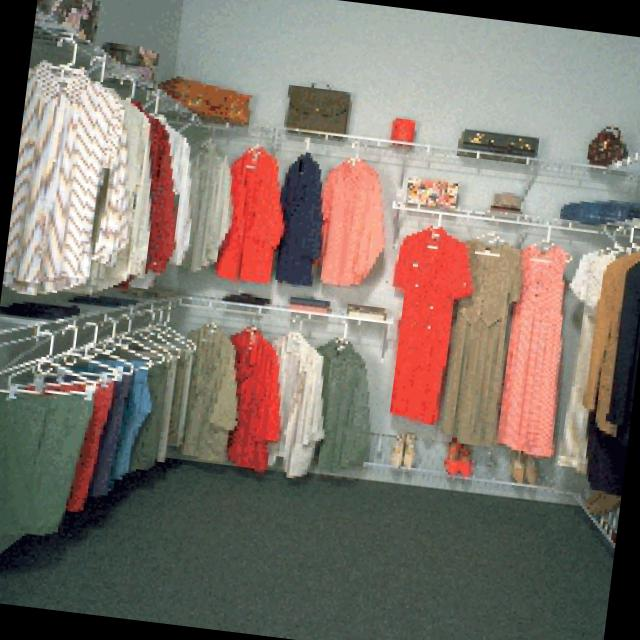basket food: (0, 536, 182, 620)
boxs: (10, 217, 197, 312), (88, 96, 175, 168), (172, 109, 252, 179)
clothing: (219, 190, 590, 622), (0, 302, 218, 492)
shelf crop: (339, 141, 640, 185)
shelves crop: (0, 6, 283, 624)
shirt: (441, 243, 640, 625)
